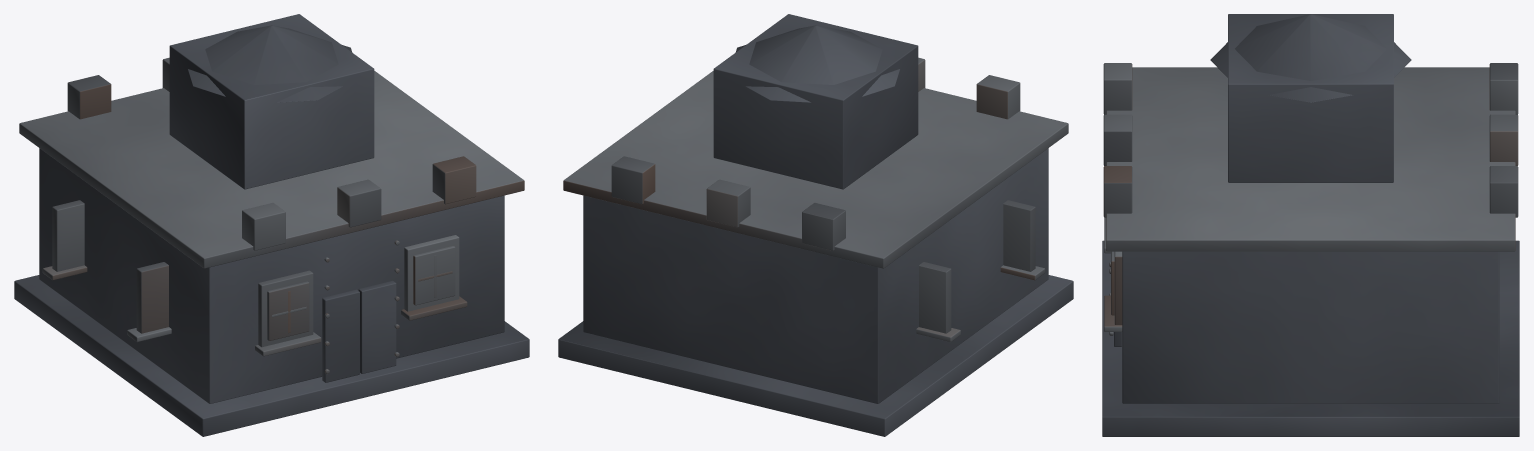
Rendered from building_outpost.fbx.
3 views of the same model, side by side, from view 1: azimuth 30°, elevation 25°; view 2: azimuth 150°, elevation 25°; view 3: azimuth 270°, elevation 25° (orthographic). The views are drawn at different scales.
Parts seen in each view (by area): view 1: building_outpost; view 2: building_outpost; view 3: building_outpost.
Boxes of the visible parts, <box> form: building_outpost: <box>14,14,529,436</box>; building_outpost: <box>558,14,1073,436</box>; building_outpost: <box>1102,14,1519,436</box>.
Bounding box in the file's own units: 5.44 × 4.55 × 5.15.
